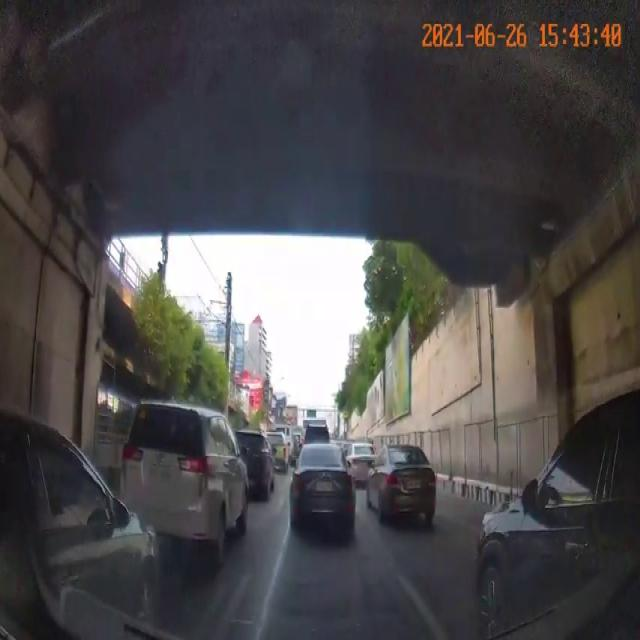car: (464, 395, 640, 635), (0, 421, 157, 627), (126, 391, 248, 559), (290, 442, 357, 538), (370, 447, 444, 533)
